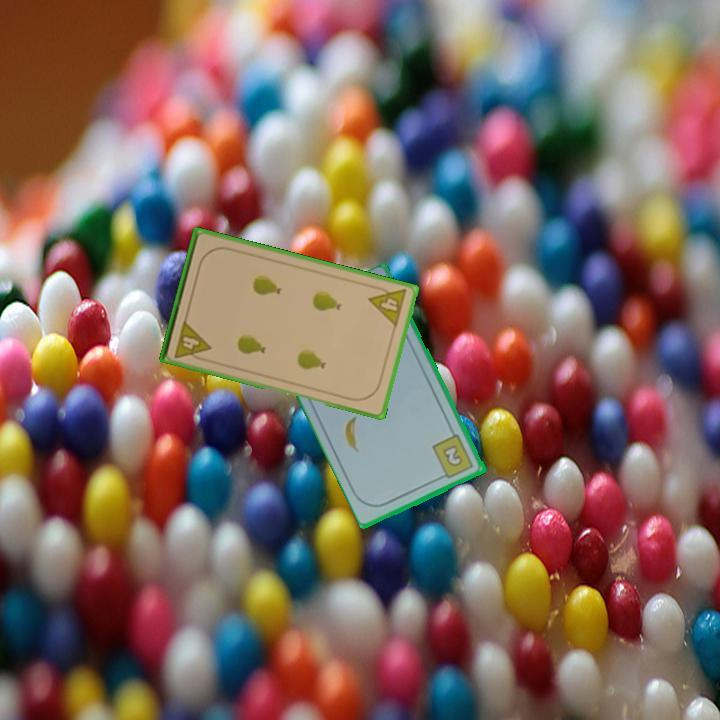2b: (429, 431, 477, 482)
4p: (365, 281, 409, 330), (171, 317, 214, 364)
